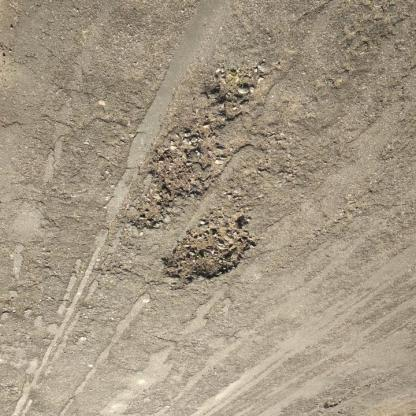pothole: (128, 67, 265, 232), (162, 212, 258, 294)
